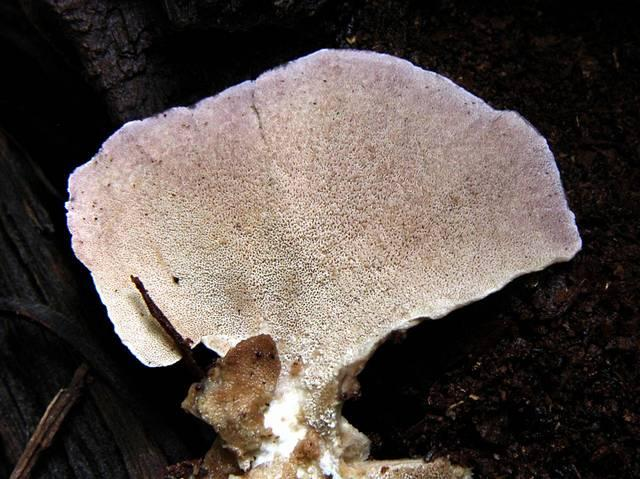Non-edible Mushroom: (62, 46, 583, 477)
